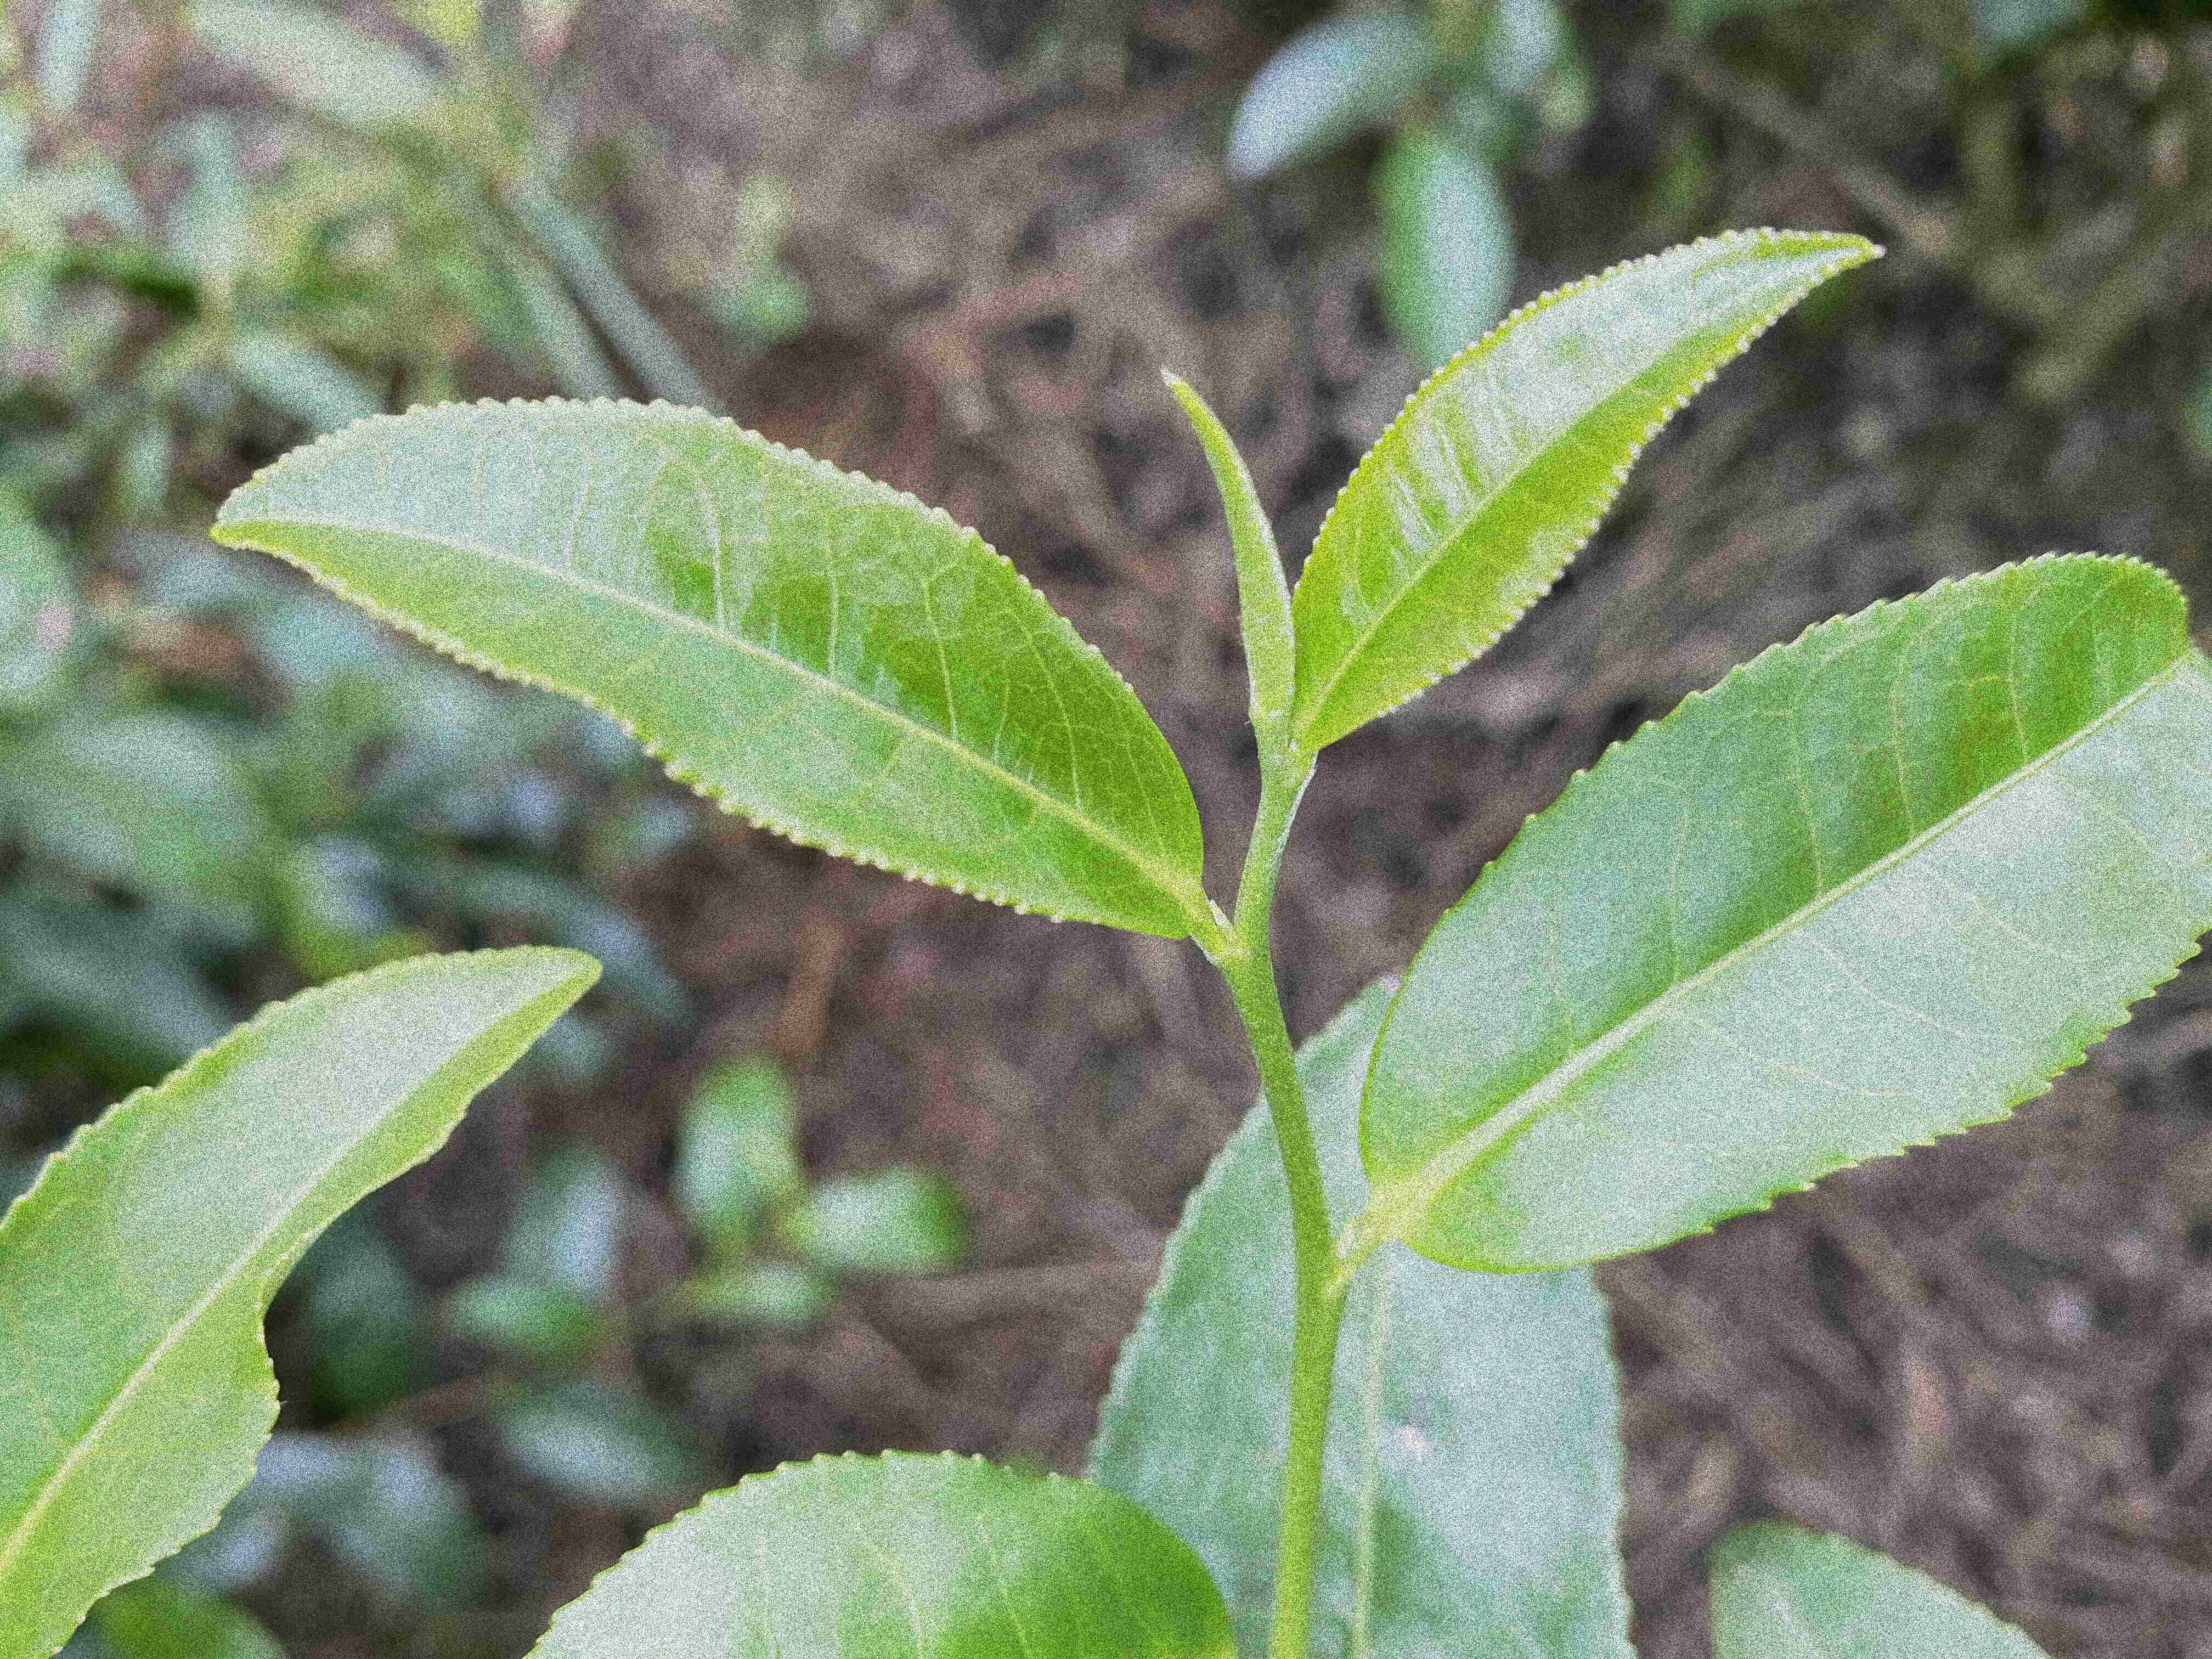healthy: (1355, 549, 2210, 1277), (209, 390, 1205, 939), (3, 945, 603, 1654), (1291, 225, 1883, 751)
